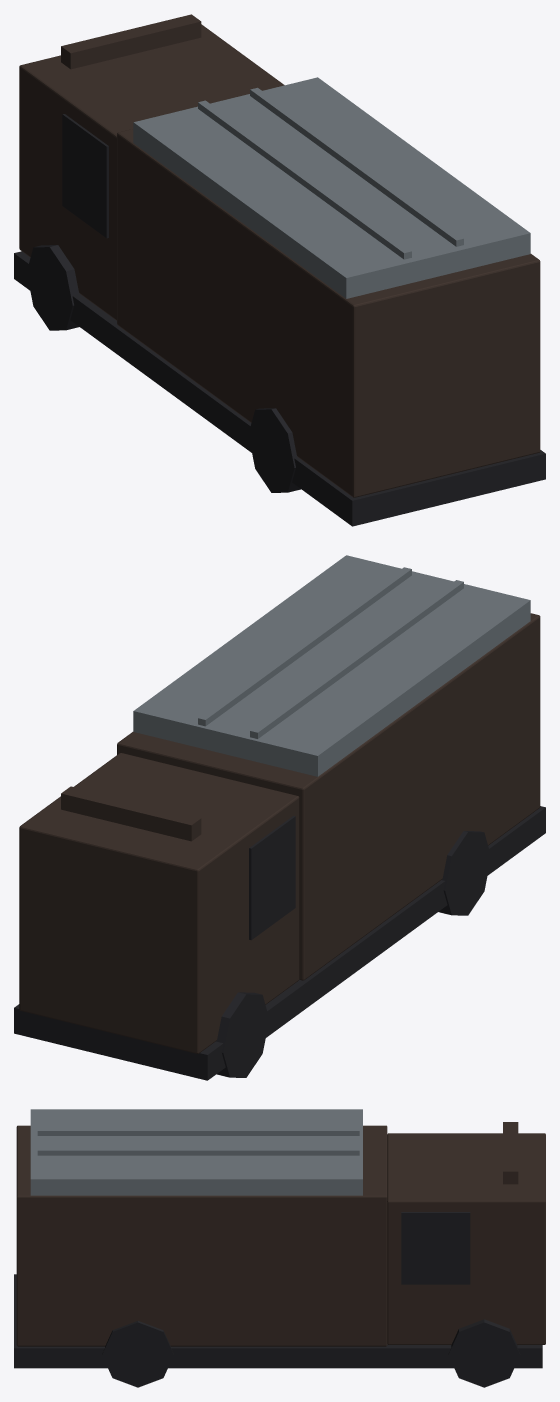
File: fire_truck_burnt_lod1.glb
3 renders of one model, top to bottom at view 1: azimuth 30°, elevation 25°; view 2: azimuth 150°, elevation 25°; view 3: azimuth 270°, elevation 25°, orthographic. The views are drawn at different scales.
Parts seen in each view (by area): view 1: fire_truck_burnt_lod1; view 2: fire_truck_burnt_lod1; view 3: fire_truck_burnt_lod1.
Part boxes in pixels (x1=…): fire_truck_burnt_lod1: x1=14, y1=14, x2=545, y2=526; fire_truck_burnt_lod1: x1=14, y1=555, x2=545, y2=1080; fire_truck_burnt_lod1: x1=14, y1=1109, x2=545, y2=1387.
Size of what is drawn, in the model's own units: 2.56 by 3.36 by 7.68.
Materials: 2 (2 with a texture image).
